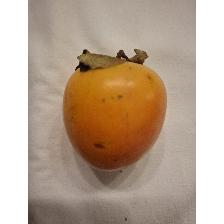Kaki: (59, 45, 171, 175)
